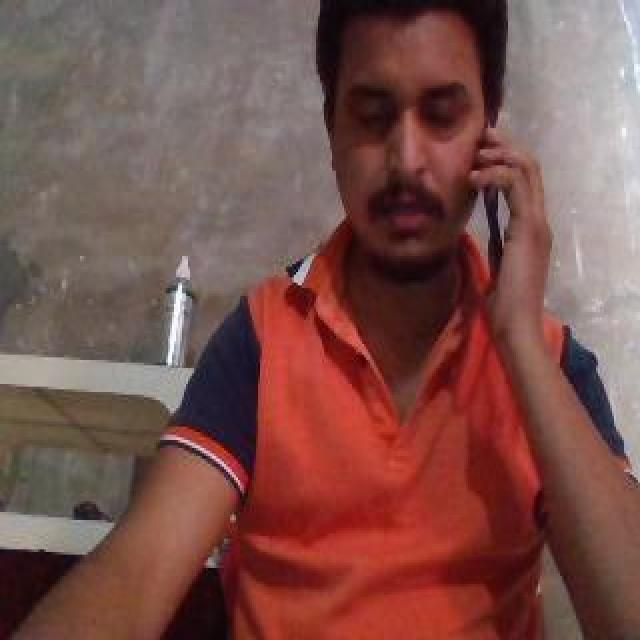phone: (482, 116, 512, 273)
